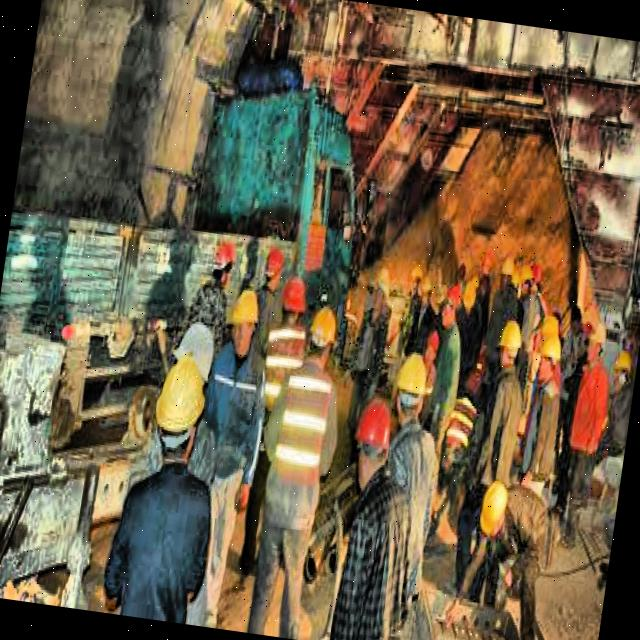helmet: (146, 350, 212, 456), (348, 398, 398, 488), (389, 348, 434, 426), (472, 474, 514, 550), (221, 286, 264, 360), (304, 300, 344, 372), (276, 272, 312, 334), (492, 314, 524, 378), (534, 332, 564, 392), (208, 236, 238, 295), (583, 318, 612, 374), (437, 280, 463, 334), (260, 243, 286, 295), (610, 344, 636, 394), (497, 252, 518, 294), (518, 262, 538, 302), (416, 272, 436, 312)
